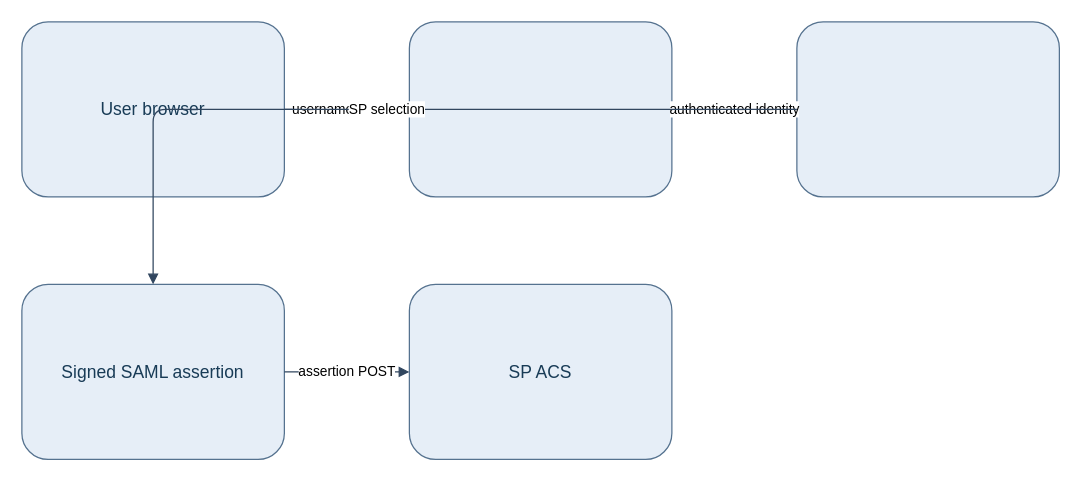
The diagram is 1081 pixels wide and 481 high, and some of its shapes have lost their labels. The shapes that lost their labels are listed below. From the top down, each one's box as (x1, y1, x2, y2) in pixels, then its label:
(408, 21, 672, 197): FortiAuthenticator FIDO login
(796, 21, 1059, 197): Group-filtered SP portal
